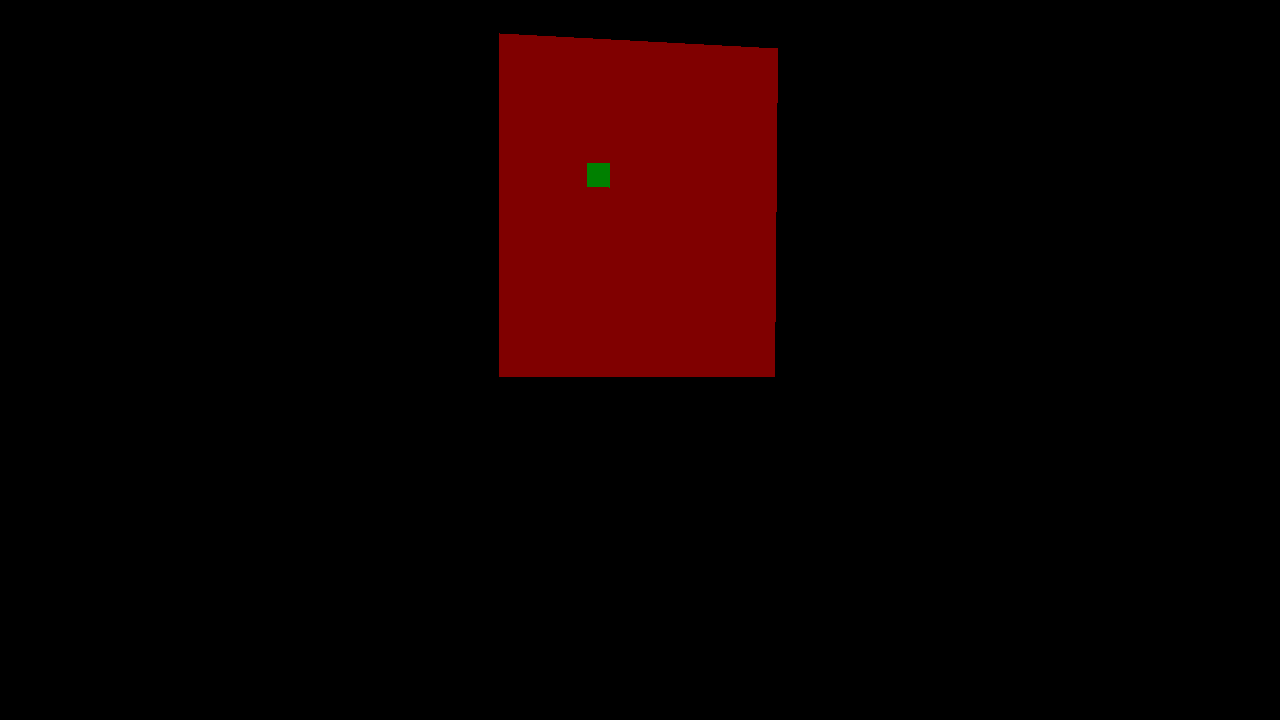door: (499, 33, 777, 376)
sign: (587, 163, 609, 187)
